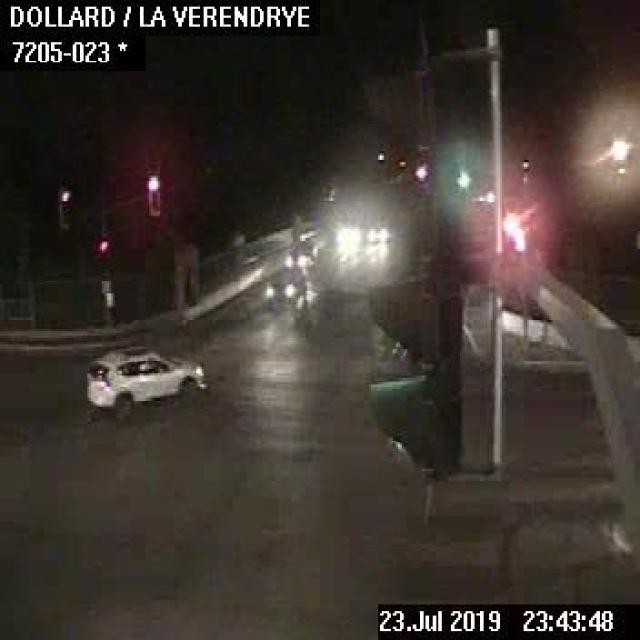vehicle: (84, 342, 204, 411), (262, 265, 304, 301), (283, 240, 320, 266), (366, 216, 388, 240)
